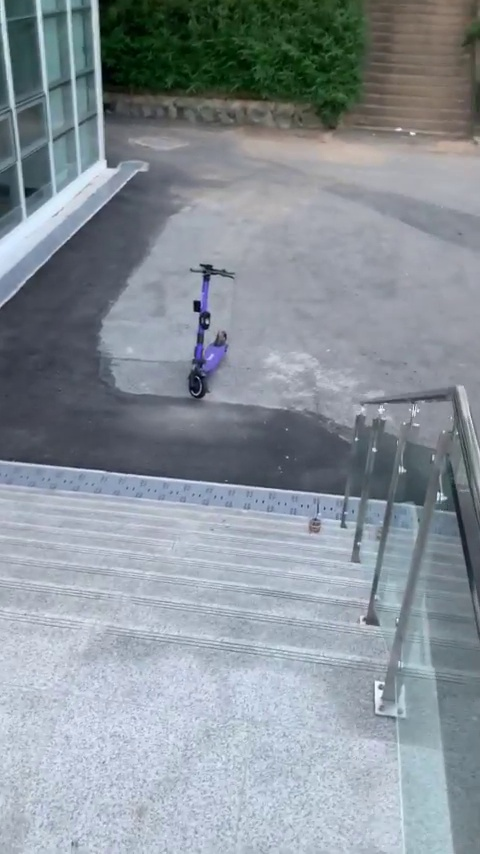beam: (170, 256, 240, 412)
